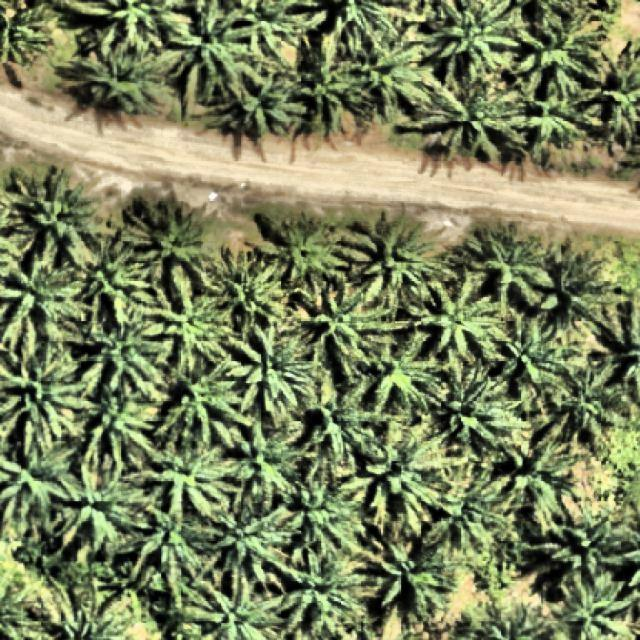Kelapa_Sawit: (338, 203, 457, 322), (288, 268, 410, 384), (124, 476, 224, 610), (191, 493, 311, 602), (484, 410, 587, 535), (61, 24, 190, 120), (421, 60, 530, 171), (353, 417, 449, 543), (44, 451, 156, 558), (5, 159, 111, 270), (420, 358, 534, 456), (164, 0, 258, 117), (65, 298, 167, 404), (120, 187, 220, 295), (214, 414, 316, 516), (518, 511, 630, 602), (144, 430, 248, 528), (461, 214, 557, 316), (225, 321, 313, 432), (490, 310, 581, 416), (348, 18, 440, 122), (144, 280, 242, 377), (154, 354, 252, 451), (360, 526, 460, 620), (199, 63, 315, 143), (510, 10, 608, 104), (414, 272, 510, 366), (416, 458, 510, 554), (270, 546, 366, 640), (266, 457, 359, 554), (285, 31, 367, 140), (547, 350, 630, 456), (206, 244, 302, 334), (68, 382, 164, 471), (64, 225, 152, 322), (257, 208, 354, 290), (534, 230, 612, 326), (295, 376, 377, 462), (509, 71, 589, 155)
